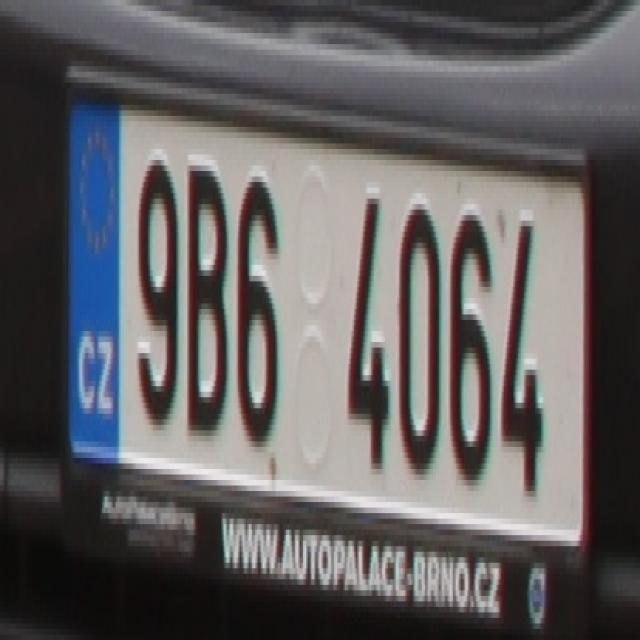0: (398, 182, 440, 469)
4: (343, 176, 390, 458), (496, 204, 544, 480)
6: (234, 171, 278, 447), (450, 204, 490, 491)
9: (136, 148, 180, 420)
B: (184, 160, 228, 425)
